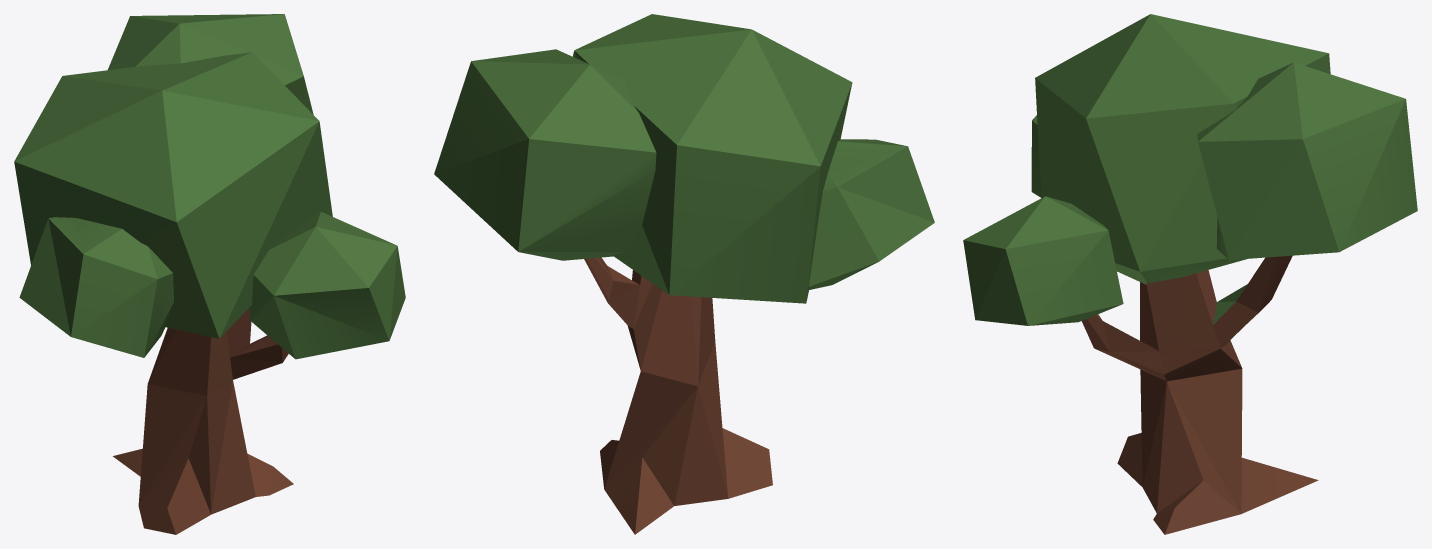
Rendered from tree_04.FBX.
3 views of the same model, side by side, from view 1: azimuth 30°, elevation 25°; view 2: azimuth 150°, elevation 25°; view 3: azimuth 270°, elevation 25° (orthographic). The views are drawn at different scales.
Parts seen in each view (by area): view 1: Tree_04; view 2: Tree_04; view 3: Tree_04.
Part boxes in pixels (x1=…): Tree_04: x1=14, y1=14, x2=405, y2=534; Tree_04: x1=434, y1=14, x2=934, y2=534; Tree_04: x1=963, y1=14, x2=1417, y2=534.
Size of the model in its own units: 535 by 637 by 583.
